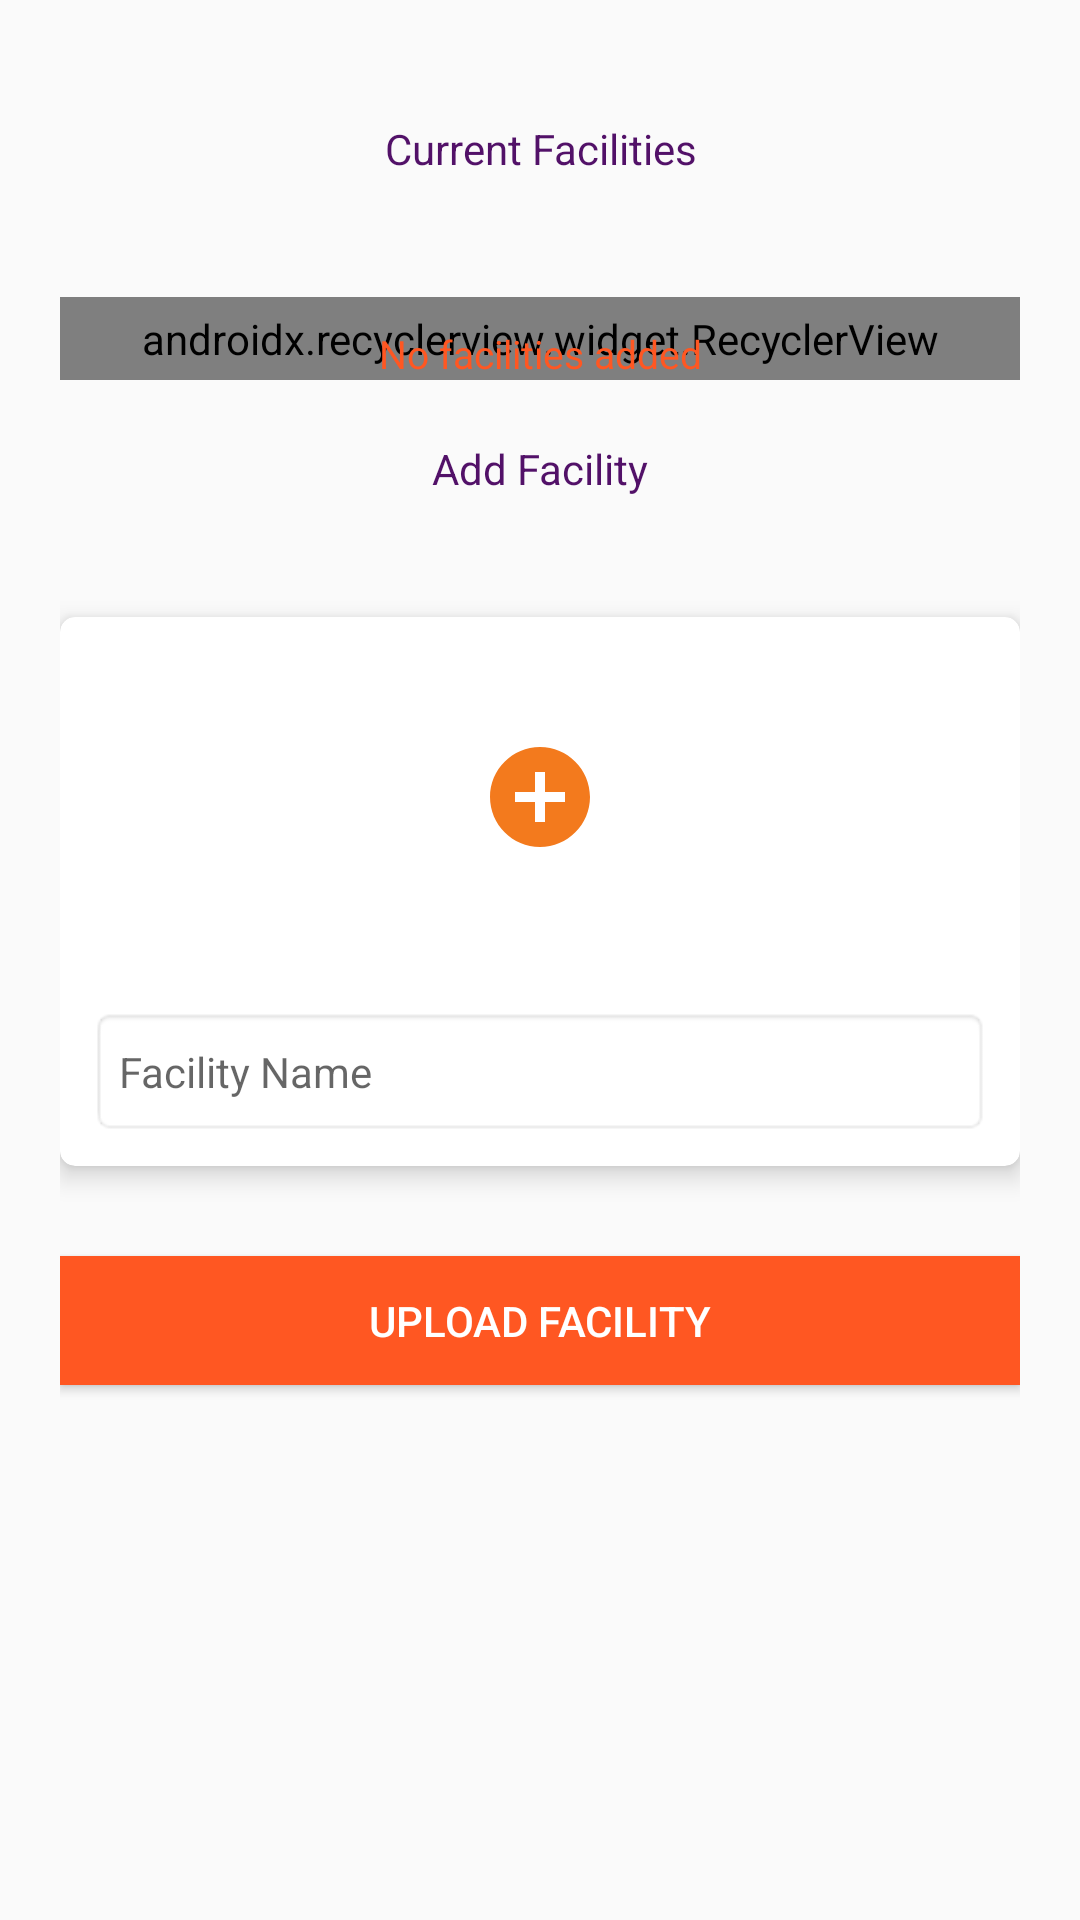

Screen size 1080x1920. Icon name, then its center in pixels as [x,y]:
add: [540,797]
